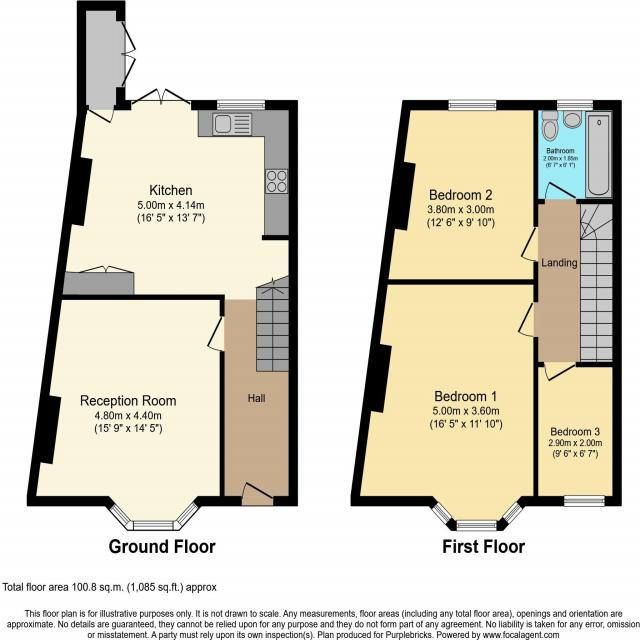DOOR: (239, 480, 275, 506), (516, 300, 539, 338), (544, 180, 578, 205), (205, 314, 225, 353), (519, 225, 539, 263), (543, 361, 577, 383)
DOUBLE DOOR: (130, 86, 191, 110)
ROOM: (52, 87, 298, 300), (350, 279, 539, 532), (26, 294, 225, 532), (378, 100, 539, 285), (532, 361, 622, 507)
WINDOW: (108, 500, 201, 532), (447, 99, 497, 112), (216, 99, 266, 111), (501, 500, 524, 525), (563, 494, 605, 507), (456, 519, 497, 532), (431, 501, 453, 525), (556, 99, 594, 112)
